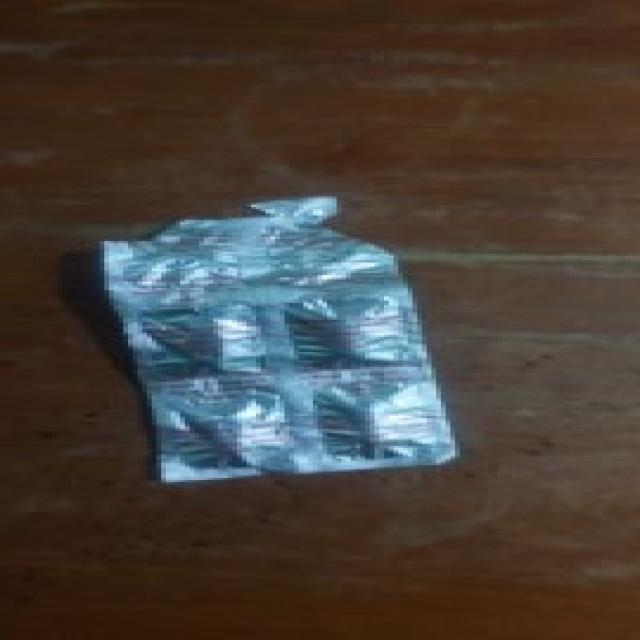Cacat: (112, 184, 436, 470)
Kemasan: (116, 192, 415, 303)
